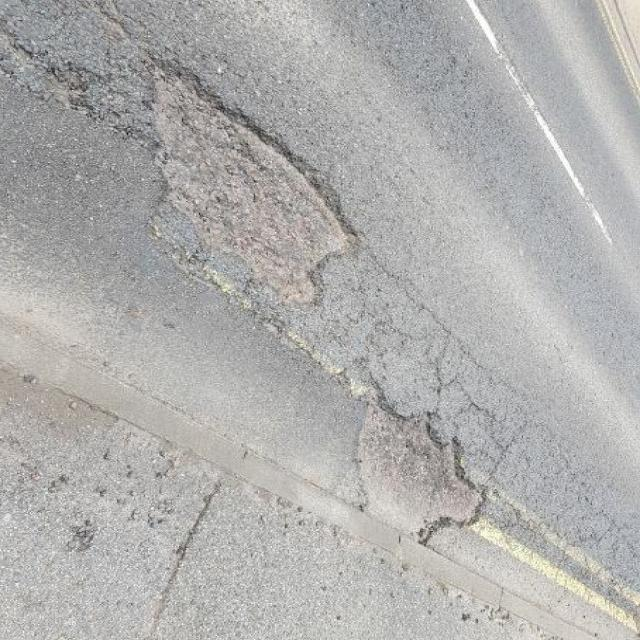pothole: (138, 50, 367, 312), (356, 370, 490, 546)
